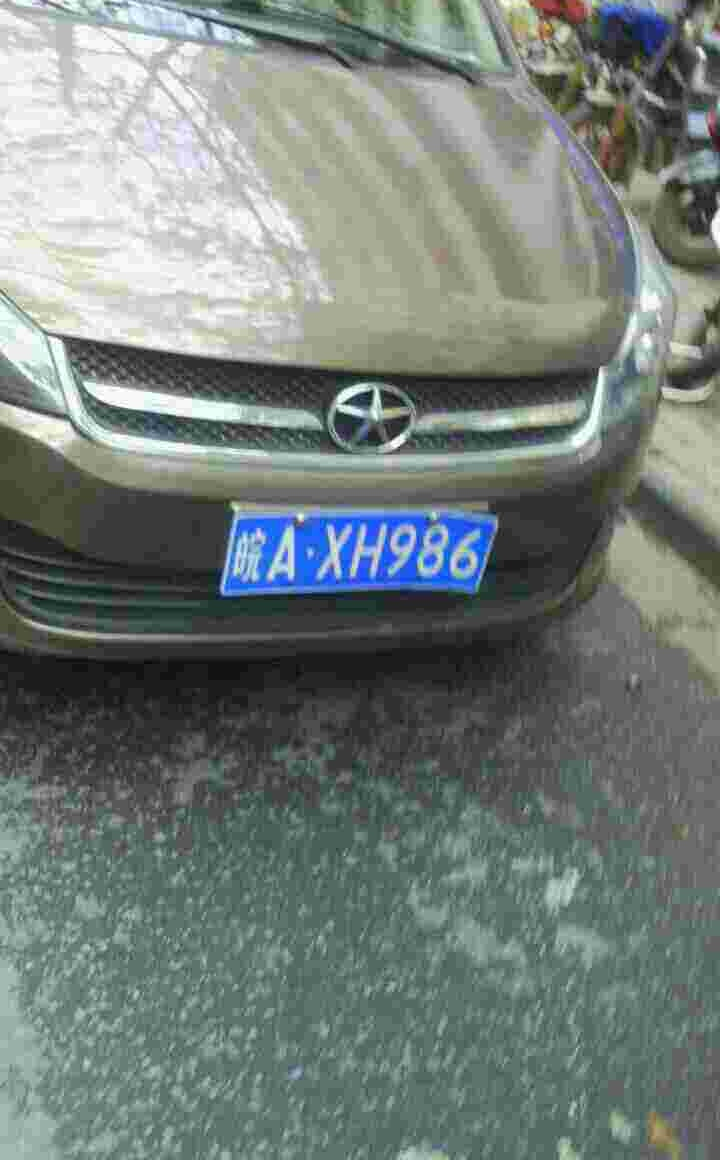license_plate: (225, 506, 486, 603)
